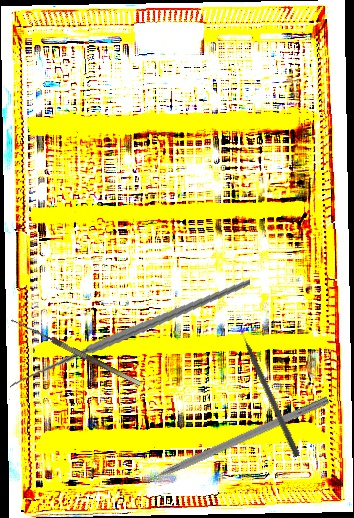Chopper: (127, 385, 330, 491)
Hook Surgical: (8, 251, 251, 428), (7, 316, 142, 394)
Pusher: (235, 322, 302, 458)
